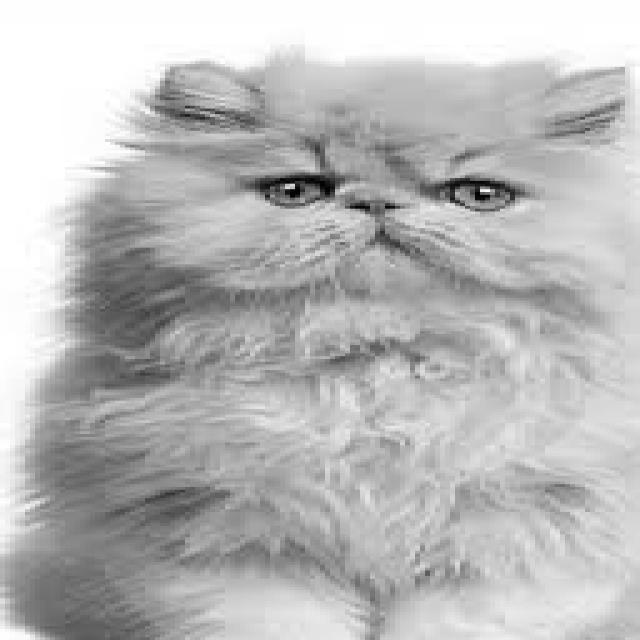iran: (203, 117, 595, 302)
